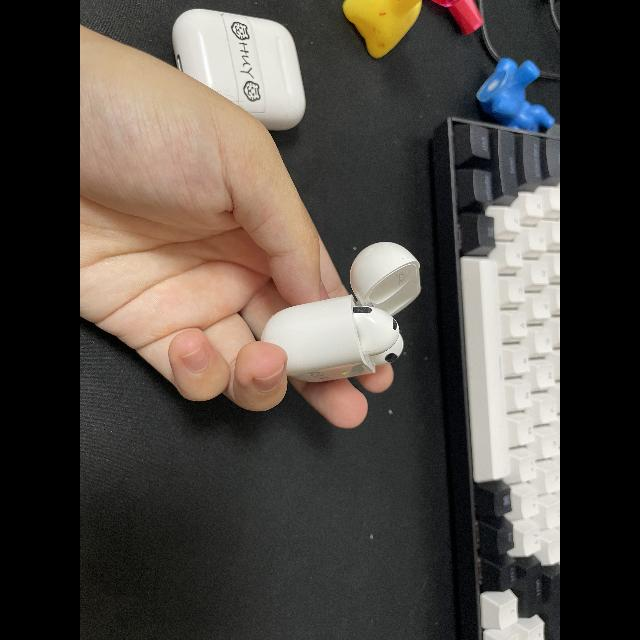airpod2: (170, 5, 312, 130)
airpod3: (247, 234, 431, 392)
